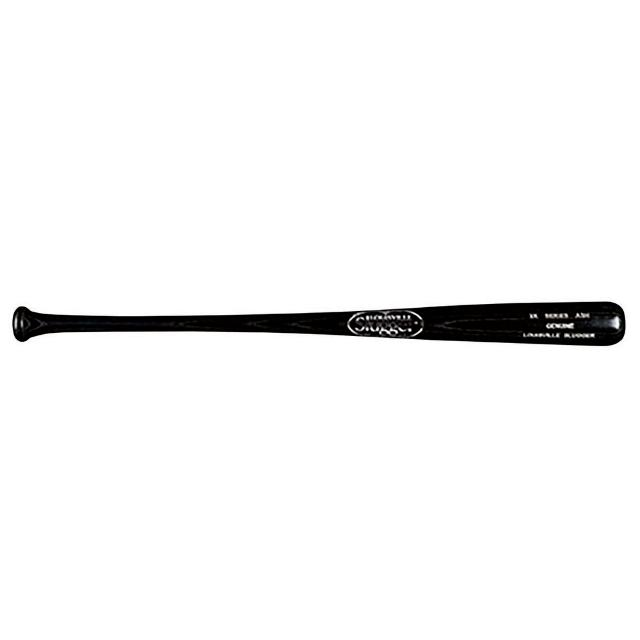baseball bat: (0, 230, 640, 426)
